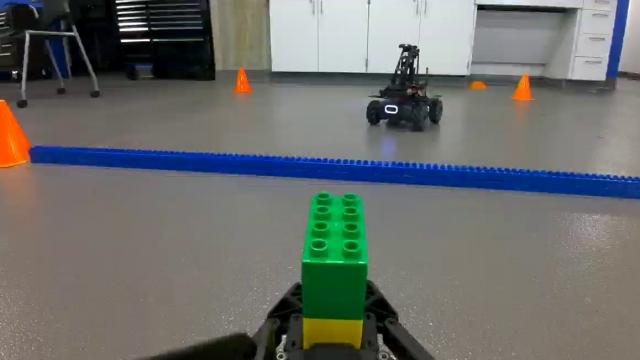robot: (361, 40, 447, 133)
